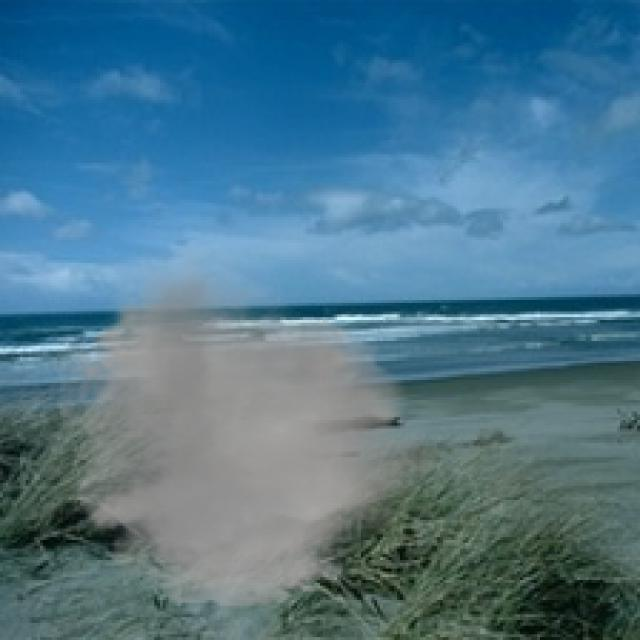Smoke: (37, 242, 454, 618)
